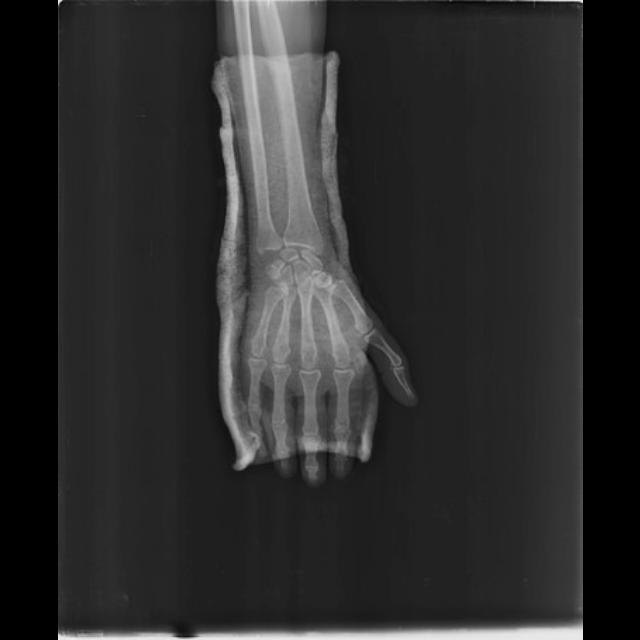Fracture: (275, 309, 291, 340)
